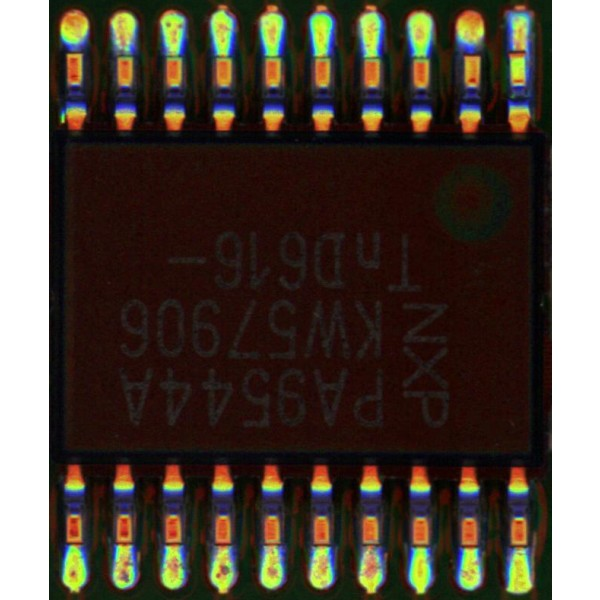Bad_podu: (363, 531, 378, 561), (514, 38, 527, 61)
